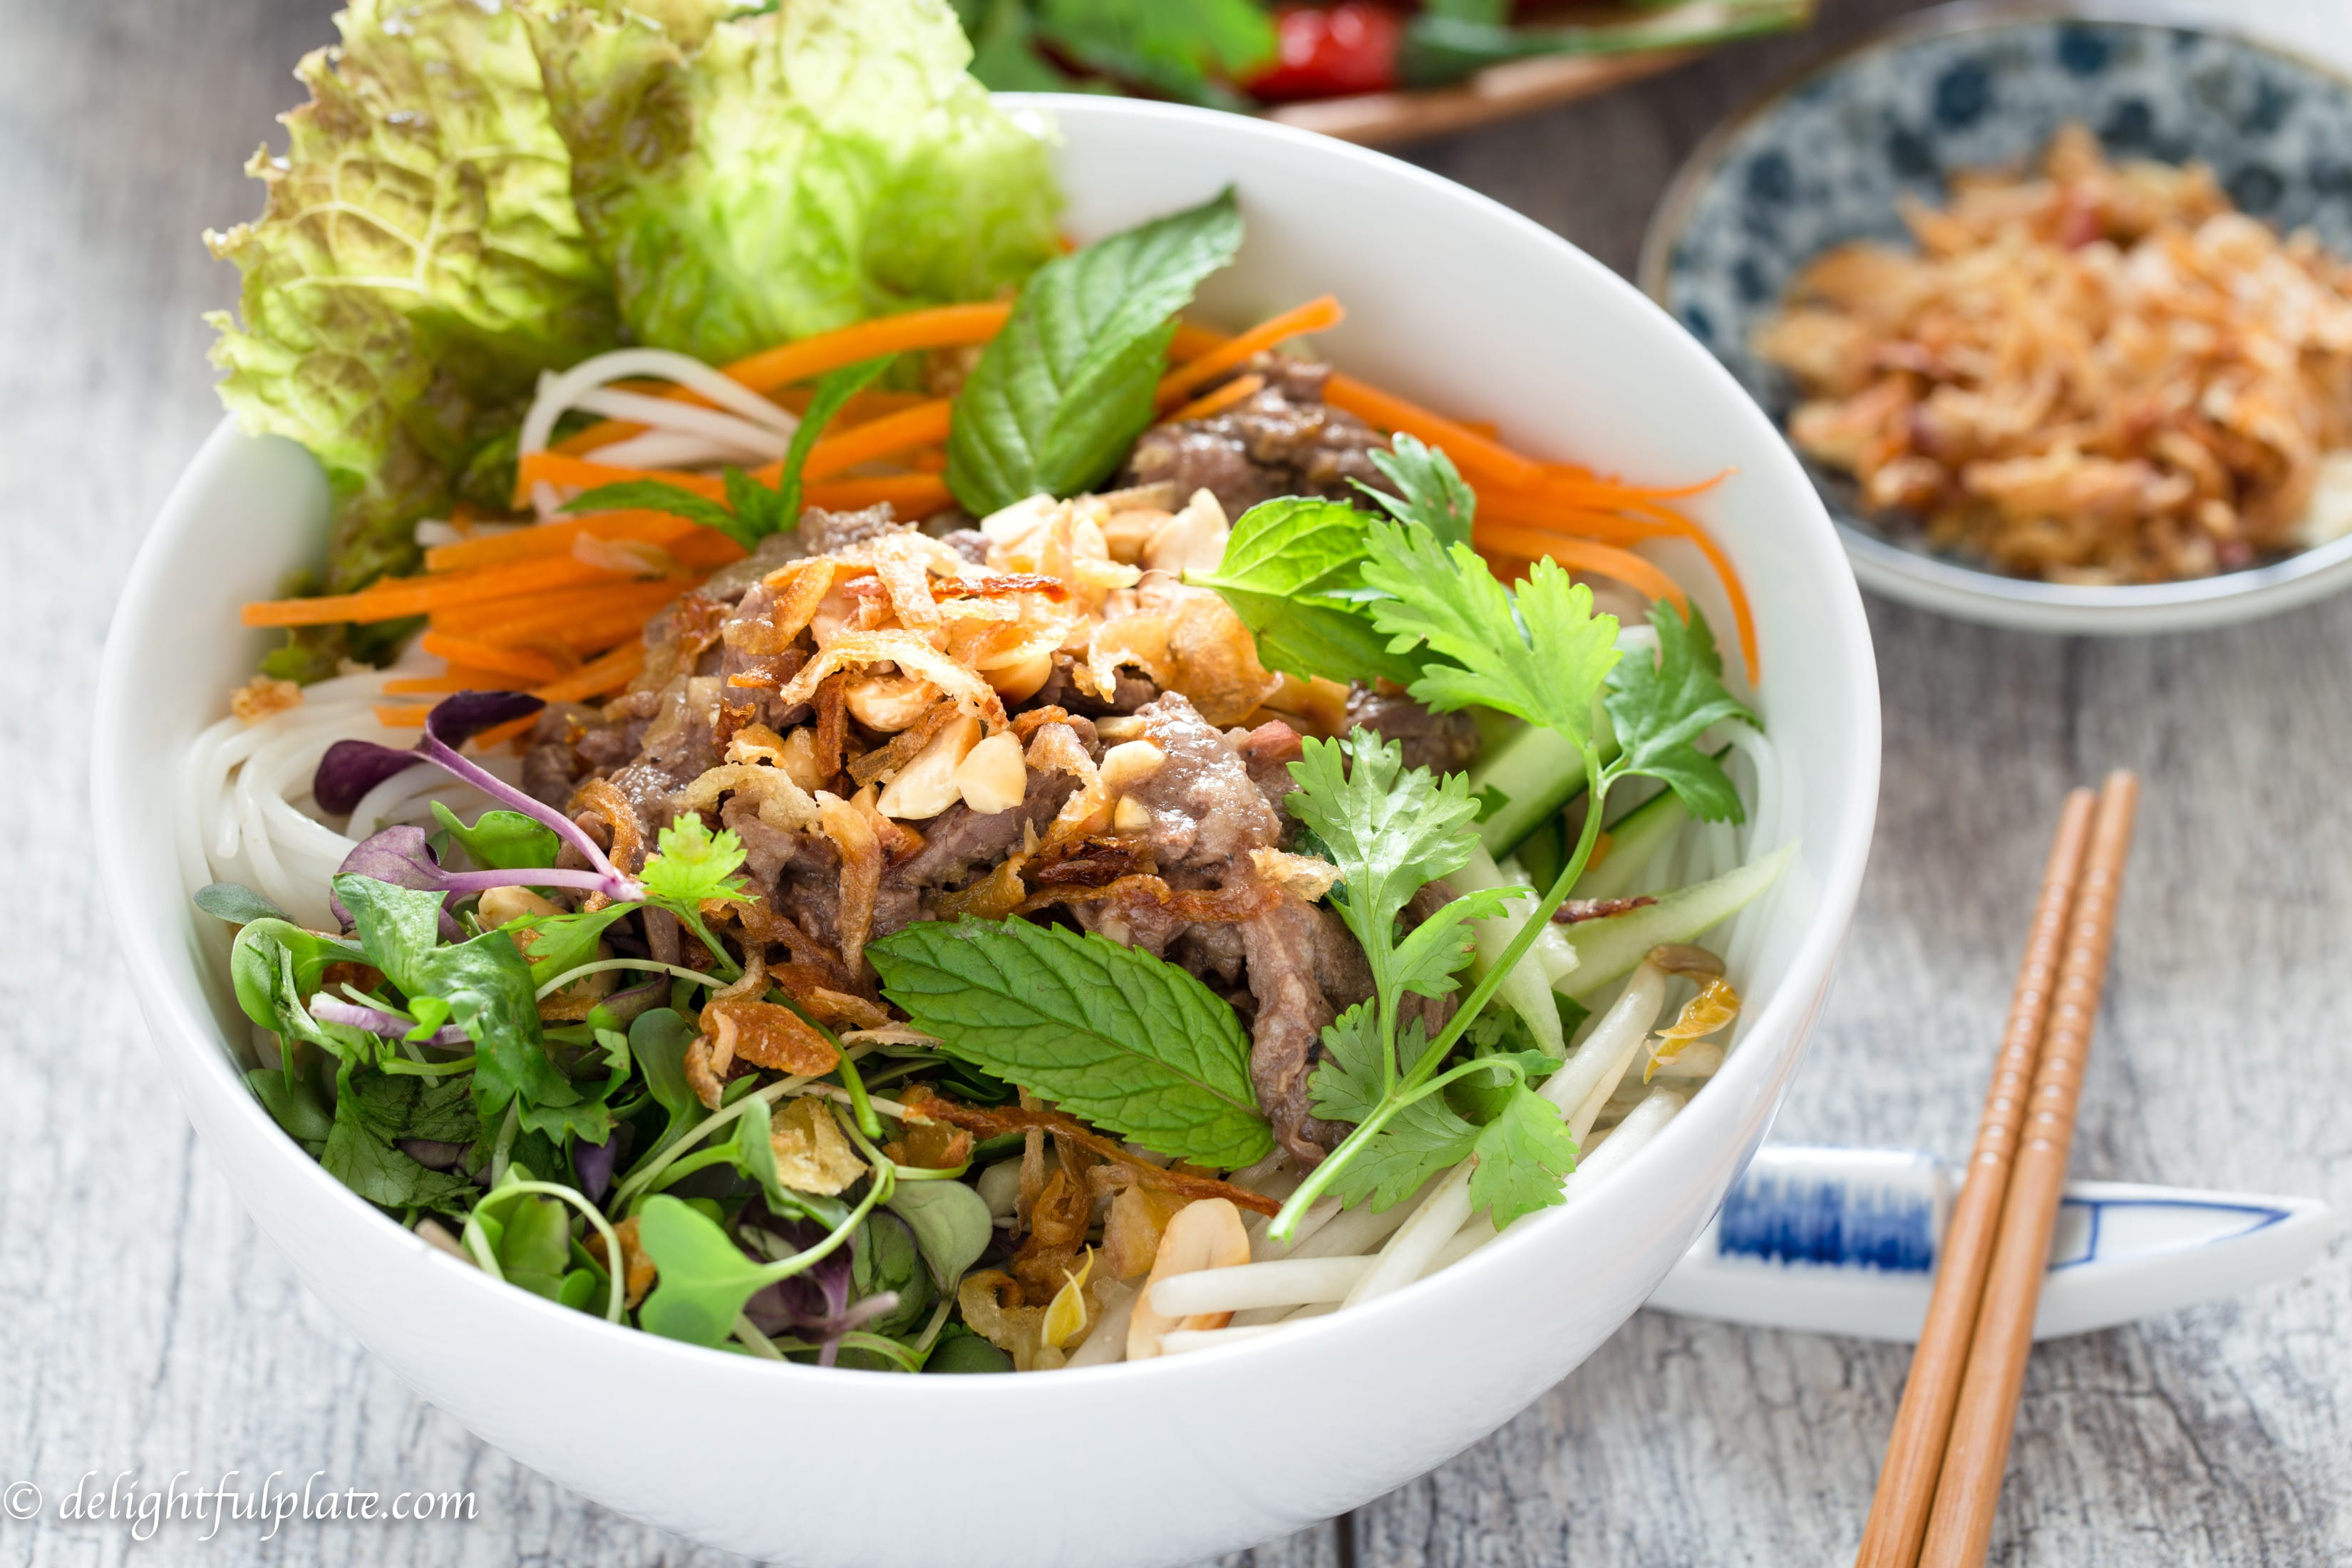beef: (913, 712, 1262, 912), (609, 693, 884, 942)
vegetable: (350, 205, 964, 539), (364, 857, 857, 1248)
